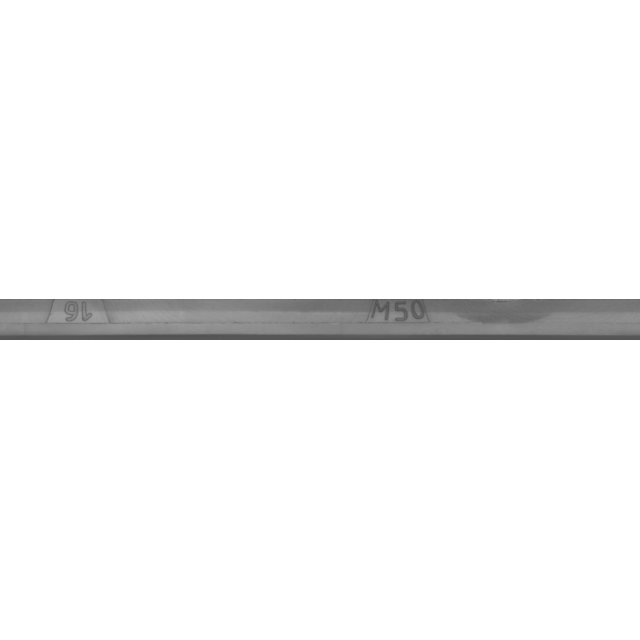mohao: (306, 270, 506, 370)
xuehao: (0, 270, 181, 370)
